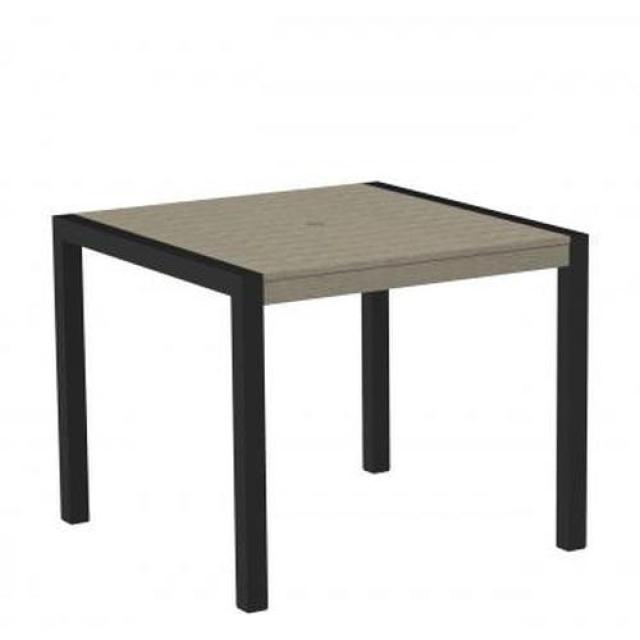table: (51, 182, 589, 614)
